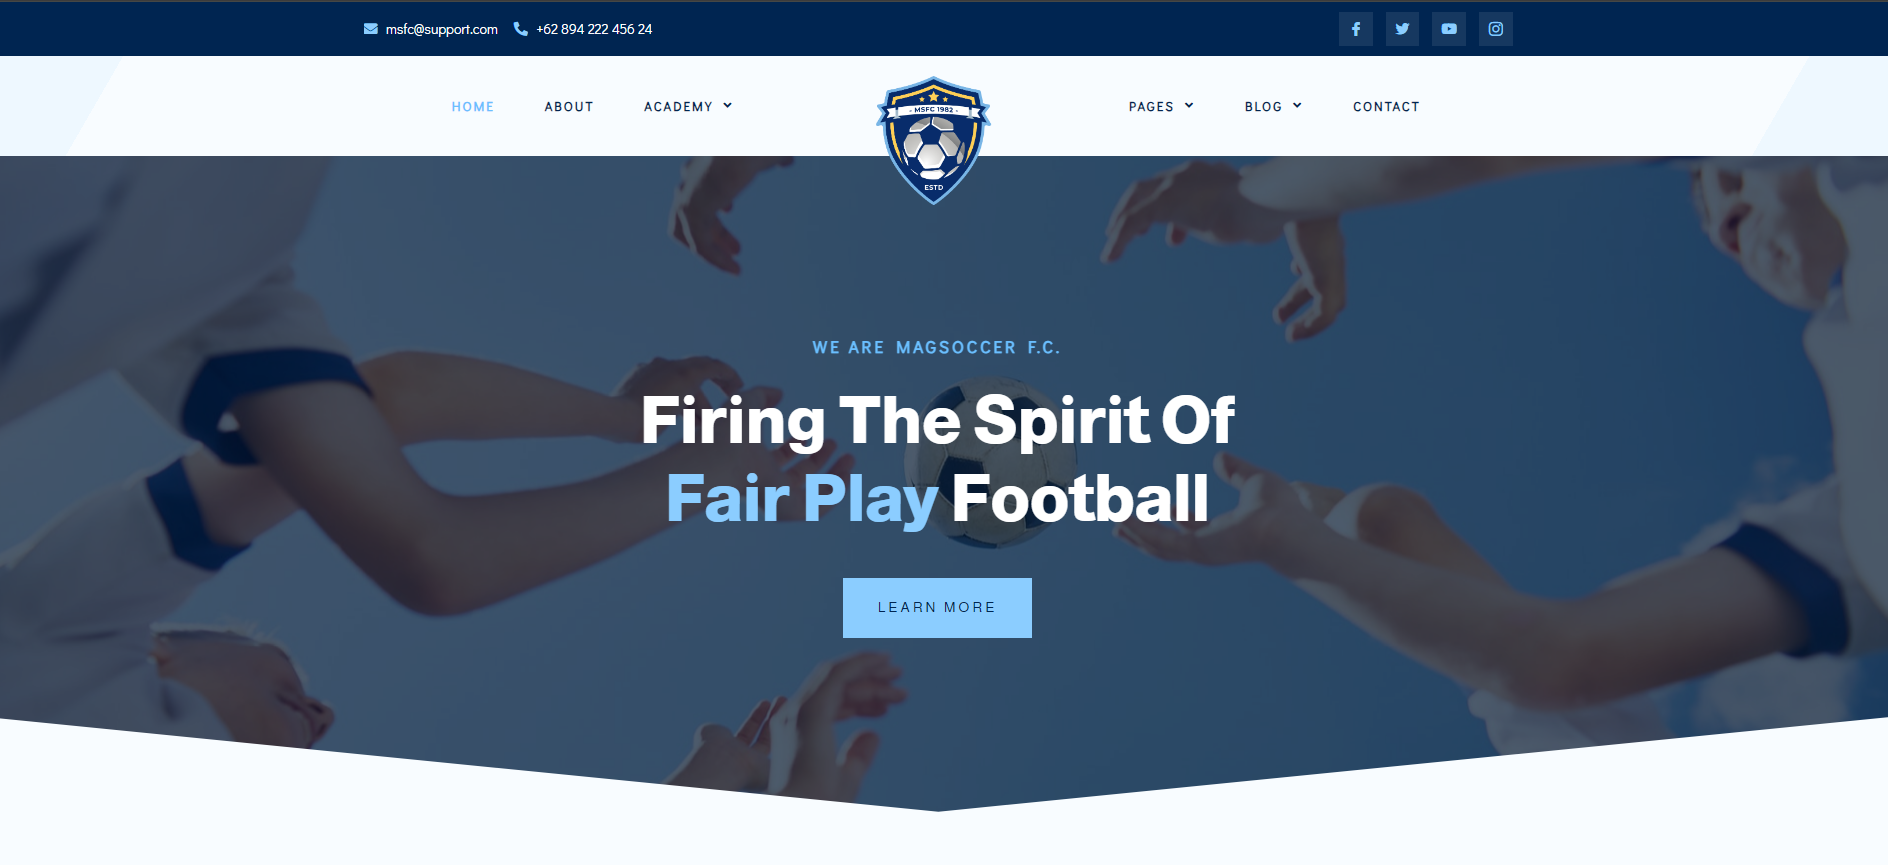menu-bar: (29, 19, 1823, 210)
